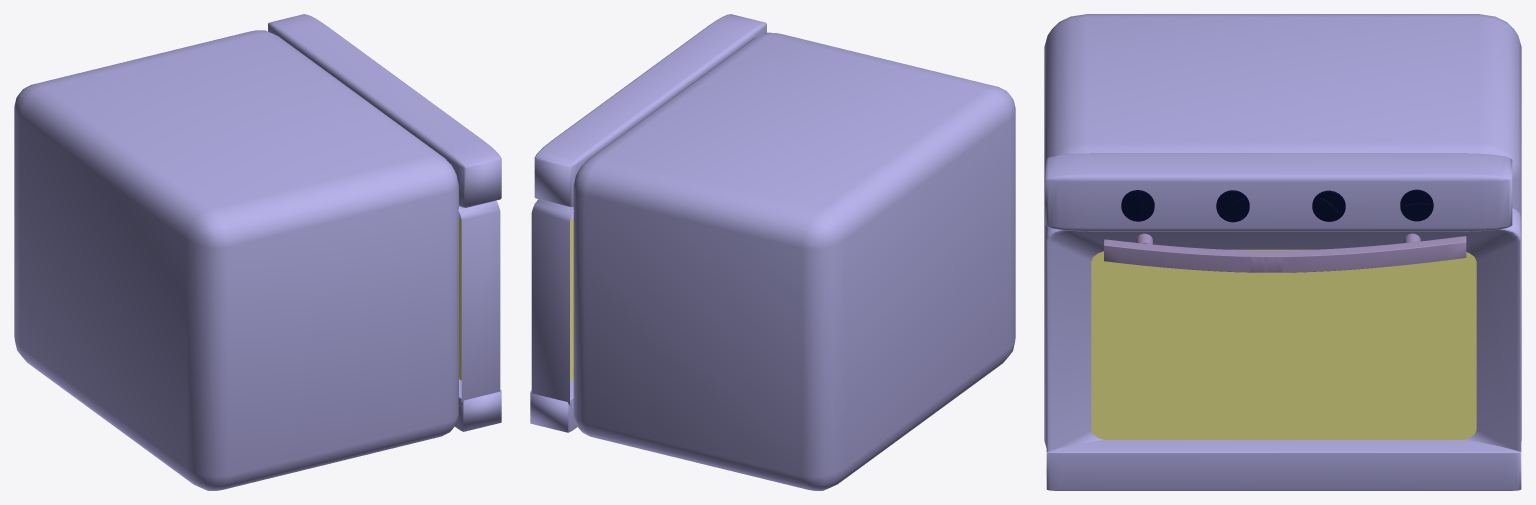
Rendered from oven.fbx.
3 renders of one model, left to right at view 1: azimuth 30°, elevation 25°; view 2: azimuth 150°, elevation 25°; view 3: azimuth 270°, elevation 25°, orthographic. The views are drawn at different scales.
Visible parts, largest first — view 1: Cube, Cube.002, Cube.003, Cube.001; view 2: Cube, Cube.002, Cube.003, Cube.001, Cube.005; view 3: Cube, Cube.005, Cube.002, Cube.003, Cube.001, Cube.004, Cylinder.001, Cylinder.003, Cylinder, Cylinder.002.
Part boxes in pixels (<box>): Cube: <box>14,30,458,490</box>; Cube.002: <box>268,14,501,207</box>; Cube.003: <box>458,200,500,406</box>; Cube.001: <box>455,379,501,431</box>; Cube: <box>573,32,1015,490</box>; Cube.002: <box>534,14,766,206</box>; Cube.003: <box>531,199,574,407</box>; Cube.001: <box>530,379,577,432</box>; Cube.005: <box>570,218,573,381</box>; Cube: <box>1044,14,1521,447</box>; Cube.005: <box>1091,249,1476,439</box>; Cube.002: <box>1045,153,1512,231</box>; Cube.003: <box>1046,208,1521,451</box>; Cube.001: <box>1046,440,1521,490</box>; Cube.004: <box>1104,236,1466,272</box>; Cylinder.001: <box>1216,190,1249,222</box>; Cylinder.003: <box>1400,189,1433,221</box>; Cylinder: <box>1121,190,1154,221</box>; Cylinder.002: <box>1312,190,1345,221</box>.
Size of the model in its own units: 250 by 200 by 264.
